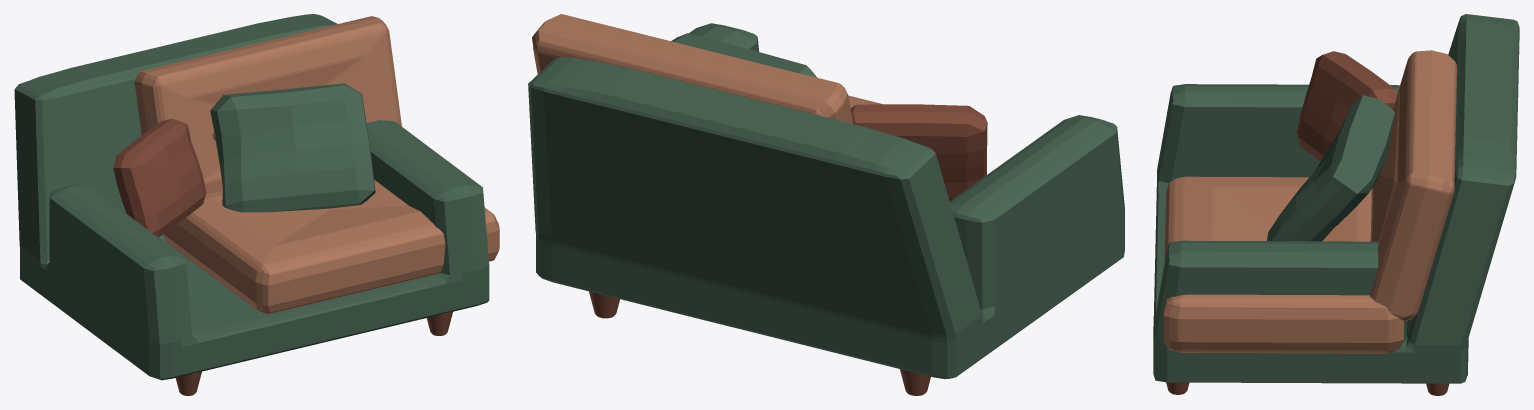
The model's file is Livingroom_Sofa1.fbx.
3 renders of one model, left to right at view 1: azimuth 30°, elevation 25°; view 2: azimuth 150°, elevation 25°; view 3: azimuth 270°, elevation 25°, orthographic. The views are drawn at different scales.
Visible parts, largest first — view 1: Livingroom_Sofa1.002, Livingroom_Sofa1, Livingroom_Sofa1.001; view 2: Livingroom_Sofa1.002, Livingroom_Sofa1, Livingroom_Sofa1.001; view 3: Livingroom_Sofa1.002, Livingroom_Sofa1, Livingroom_Sofa1.001.
Boxes of the visible parts, x1,y1,x2,y2 form: Livingroom_Sofa1.002: [14, 14, 489, 380]; Livingroom_Sofa1: [134, 16, 499, 314]; Livingroom_Sofa1.001: [113, 118, 452, 395]; Livingroom_Sofa1.002: [528, 23, 1124, 379]; Livingroom_Sofa1: [532, 14, 882, 123]; Livingroom_Sofa1.001: [589, 104, 987, 395]; Livingroom_Sofa1.002: [1153, 14, 1519, 383]; Livingroom_Sofa1: [1163, 50, 1457, 353]; Livingroom_Sofa1.001: [1166, 51, 1449, 395].
Bounding box in the file's own units: 104 × 76.87 × 129.
